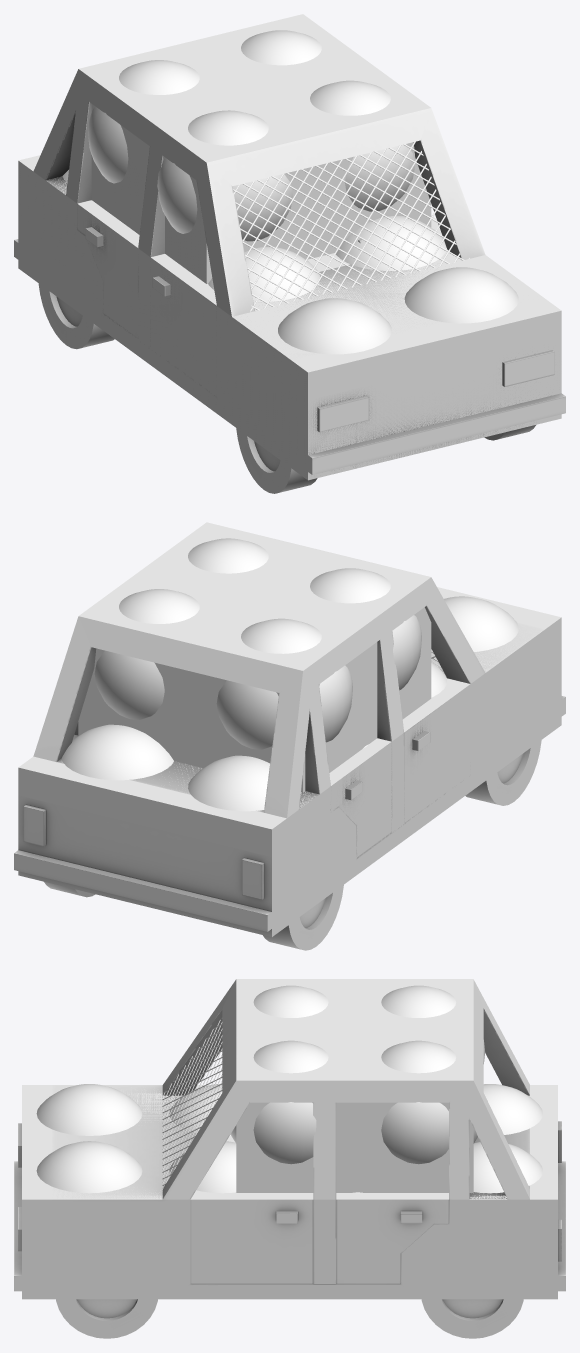
3 views of the same model, one above another, from view 1: azimuth 30°, elevation 25°; view 2: azimuth 150°, elevation 25°; view 3: azimuth 270°, elevation 25° (orthographic). The views are drawn at different scales.
Parts seen in each view (by area): view 1: body, Cube006, Cube002, Wire_fence_loose.stl, Sphere002, Sphere001, Sphere, Sphere003, Sphere007, Sphere010, door_4, door_2 (+4 smaller); view 2: body, Cube006, Cube002, Sphere007, Sphere004, Sphere005, door_4, Sphere002, Sphere006, door_2, Sphere003, Sphere001 (+2 smaller); view 3: body, Cube006, Cube002, door_1, door_3, Sphere004, Sphere001, Sphere, Sphere003, Wire_fence_loose.stl, Cylinder001, wheel_fl (+6 smaller).
Part boxes in pixels (<box>): body: <box>14,14,565,477</box>; Cube006: <box>18,155,561,480</box>; Cube002: <box>91,25,431,283</box>; Wire_fence_loose.stl: <box>233,141,469,312</box>; Sphere002: <box>157,110,292,241</box>; Sphere001: <box>310,80,414,211</box>; Sphere: <box>404,267,518,368</box>; Sphere003: <box>278,298,391,399</box>; Sphere007: <box>88,60,199,183</box>; Sphere010: <box>336,216,446,270</box>; door_4: <box>77,204,138,337</box>; door_2: <box>152,269,216,396</box>; body: <box>14,522,565,937</box>; Cube006: <box>18,587,561,930</box>; Cube002: <box>78,607,431,792</box>; Sphere007: <box>216,618,352,749</box>; Sphere004: <box>94,589,199,719</box>; Sphere005: <box>61,724,173,780</box>; door_4: <box>331,742,391,857</box>; Sphere002: <box>310,568,421,690</box>; Sphere006: <box>188,755,269,811</box>; door_2: <box>404,699,470,823</box>; Sphere003: <box>444,596,518,651</box>; Sphere001: <box>188,538,268,573</box>; body: <box>14,979,565,1299</box>; Cube006: <box>22,1085,557,1299</box>; Cube002: <box>236,1065,473,1192</box>; door_1: <box>190,1199,313,1283</box>; door_3: <box>336,1199,448,1283</box>; Sphere004: <box>381,1040,477,1164</box>; Sphere001: <box>230,1040,328,1164</box>; Sphere: <box>36,1141,142,1193</box>; Sphere003: <box>36,1084,142,1135</box>; Wire_fence_loose.stl: <box>162,1017,222,1192</box>; Cylinder001: <box>421,1299,523,1338</box>; wheel_fl: <box>56,1299,157,1338</box>.
Bounding box in the file's own units: 1.28 × 1.31 × 2.49.
4 materials, 2 textured.
